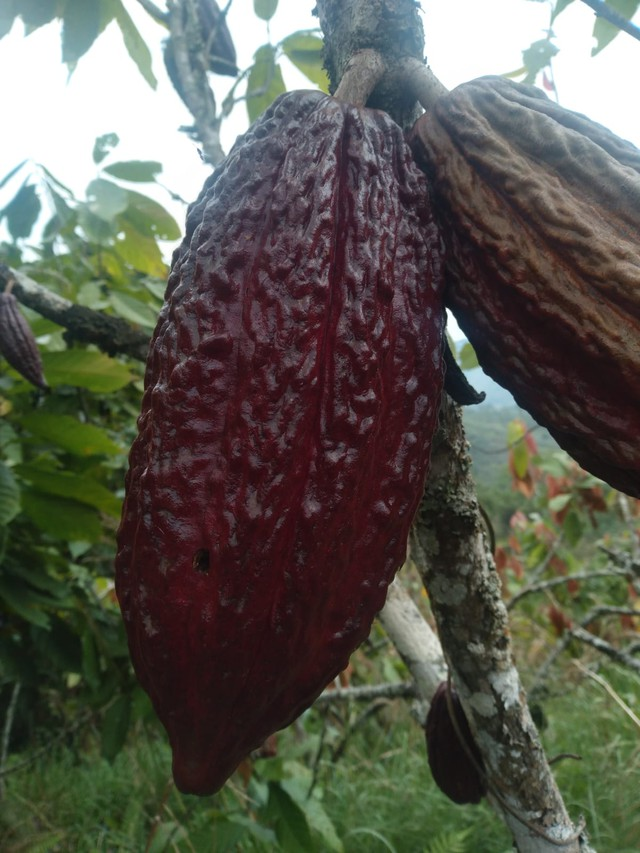carmenta foraseminis: (113, 88, 453, 805)
